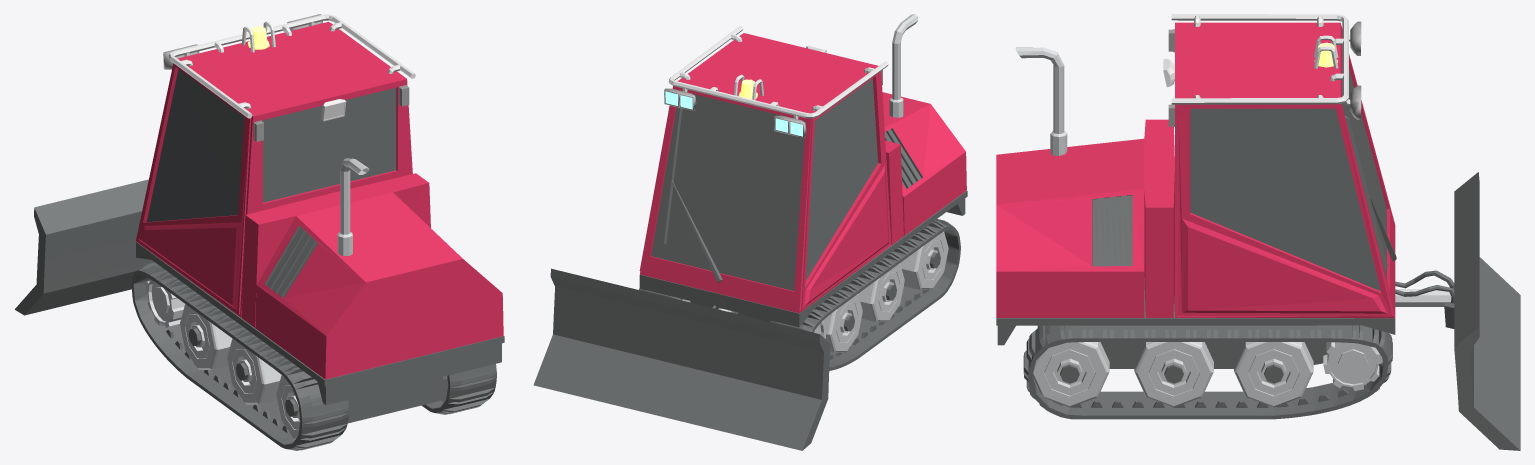
Rendered from Heavysnow car.fbx.
3 renders of one model, left to right at view 1: azimuth 30°, elevation 25°; view 2: azimuth 150°, elevation 25°; view 3: azimuth 270°, elevation 25°, orthographic. The views are drawn at different scales.
Parts seen in each view (by area): view 1: Cabin, Windows, Tracks, Backet, Base, Cabin_pipe, Wheel_3, Wheel_3_2, Lattice, Exhaust_pipe, Wheel1, Wheel_3_1; view 2: Backet, Windows, Cabin, Tracks, Base, Cabin_pipe, Wheel_3_1, Wheel_3, Wheel_3_2, Front_lights, Wiper, Exhaust_pipe (+1 smaller); view 3: Cabin, Windows, Tracks, Backet, Base, Wheel_3, Wheel_3_2, Wheel_3_1, Cabin_pipe, Lattice, Wheel1, Exhaust_pipe (+3 smaller).
Boxes of the visible parts, x1,y1,x2,y2 form: Cabin: [136, 21, 503, 379]; Windows: [147, 69, 396, 222]; Tracks: [131, 262, 496, 450]; Backet: [15, 179, 153, 315]; Base: [136, 242, 504, 423]; Cabin_pipe: [168, 14, 415, 118]; Wheel_3: [227, 338, 281, 404]; Wheel_3_2: [180, 304, 232, 369]; Lattice: [265, 225, 317, 298]; Exhaust_pipe: [337, 158, 369, 255]; Wheel1: [146, 279, 184, 327]; Wheel_3_1: [276, 375, 448, 439]; Backet: [533, 268, 830, 450]; Windows: [651, 79, 877, 290]; Cabin: [639, 33, 966, 313]; Tracks: [639, 219, 960, 370]; Base: [639, 190, 967, 327]; Cabin_pipe: [668, 26, 888, 118]; Wheel_3_1: [900, 231, 948, 289]; Wheel_3: [858, 263, 904, 321]; Wheel_3_2: [690, 294, 862, 352]; Front_lights: [664, 88, 806, 137]; Wiper: [662, 108, 722, 282]; Exhaust_pipe: [889, 14, 918, 117]; Cabin: [996, 22, 1395, 318]; Windows: [1190, 45, 1386, 291]; Tracks: [1023, 325, 1392, 419]; Backet: [1444, 172, 1520, 450]; Base: [996, 278, 1395, 368]; Wheel_3: [1134, 342, 1213, 407]; Wheel_3_2: [1234, 342, 1313, 407]; Wheel_3_1: [1032, 342, 1109, 407]; Cabin_pipe: [1171, 14, 1348, 104]; Lattice: [1092, 195, 1132, 266]; Wheel1: [1323, 342, 1382, 390]; Exhaust_pipe: [1015, 47, 1067, 155].
Bounding box in the file's own units: 33.98 × 33.75 × 48.28.
